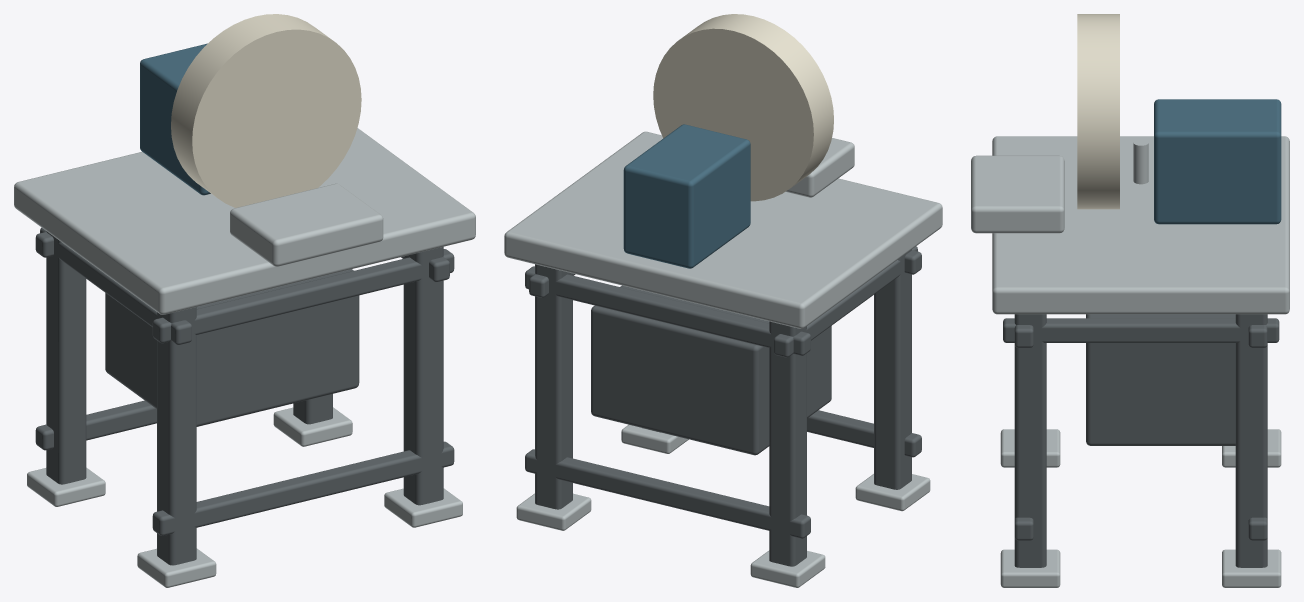
File: glassblowing-studio-and-gallery-polishing-wheel-6ade69ab__29619.glb
The picture shows the model from 3 angles, left to right: view 1: azimuth 30°, elevation 25°; view 2: azimuth 150°, elevation 25°; view 3: azimuth 270°, elevation 25°; orthographic projection. The views are drawn at different scales.
Parts seen in each view (by area): view 1: polishing-wheel; view 2: polishing-wheel; view 3: polishing-wheel.
Boxes of the visible parts, <box> form: polishing-wheel: <box>14,14,475,587</box>; polishing-wheel: <box>504,14,942,587</box>; polishing-wheel: <box>971,14,1289,587</box>.
Bounding box in the file's own units: 0.86 × 1.28 × 0.75.
